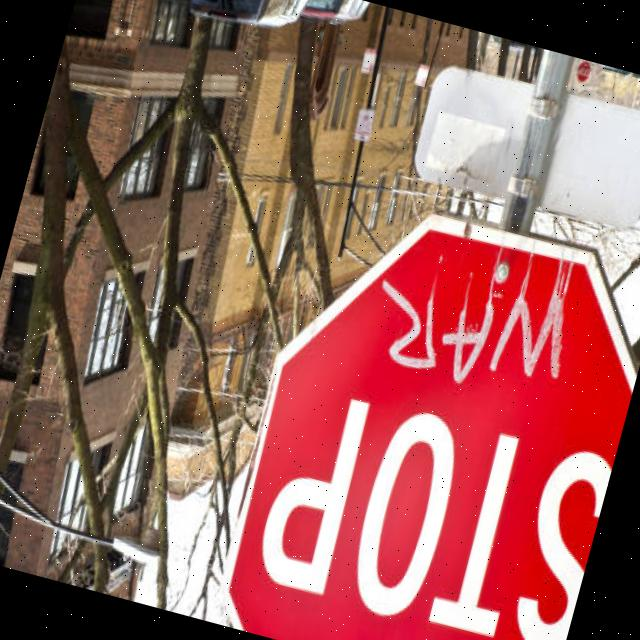stop: (190, 163, 640, 640)
